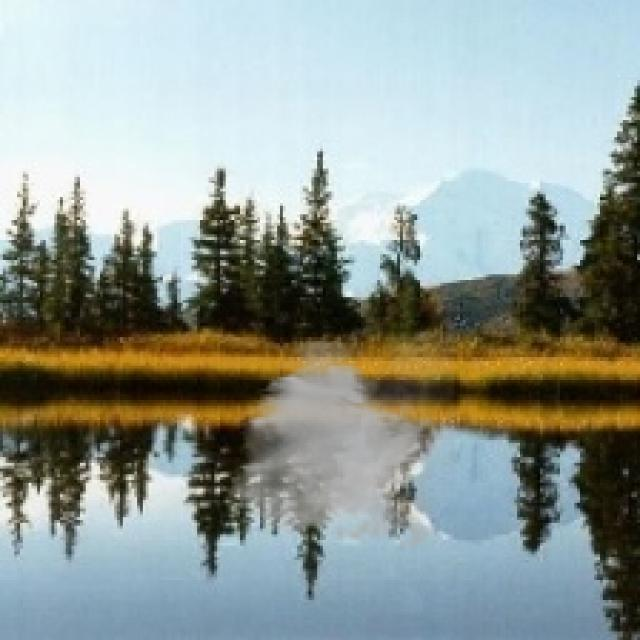smoke: (229, 332, 454, 557)
